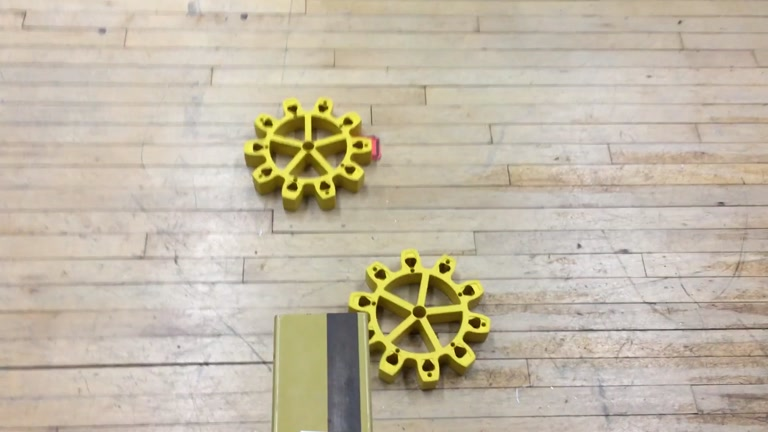gear: (344, 246, 492, 391), (242, 95, 373, 212)
